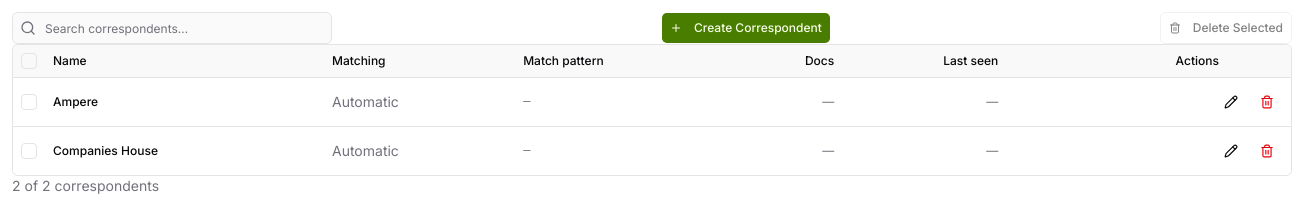
it: Management table refinements › bulk deletes selected correspondents
The width and height of the screenshot is (1304, 211).
Step 1. Click the checkbox named "Select Ampere" → [29, 102], box [21,94,37,110]
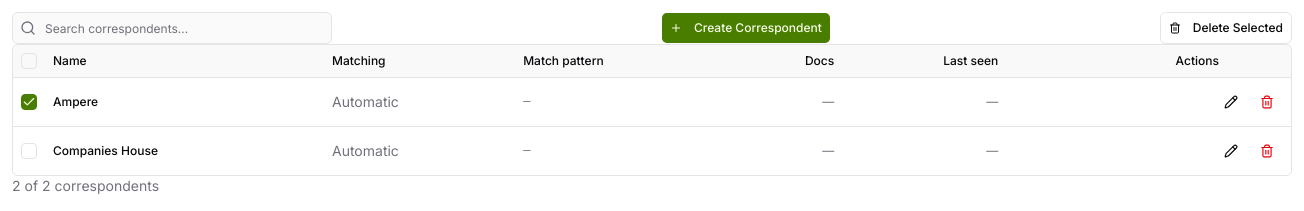
Step 2. Click the checkbox named "Select Companies House" → [29, 150], box [21,142,37,158]
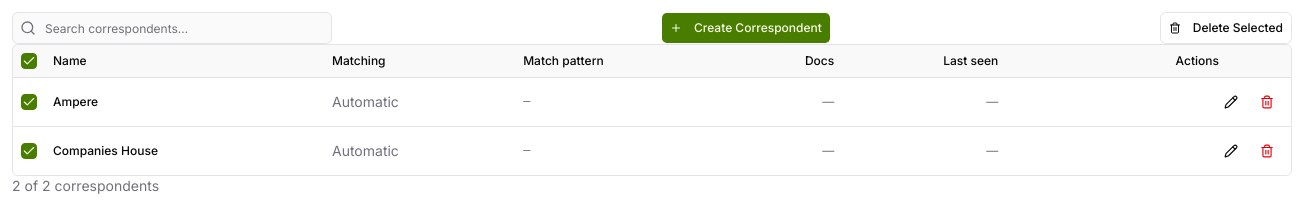
Step 3. Click the button "Delete Selected" → [1226, 28], box [1160,12,1292,44]
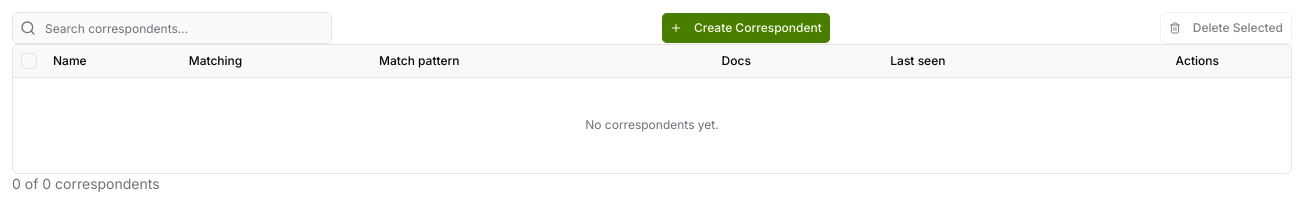
Check: the text "Ampere" is gone
Check: the text "Companies House" is gone
